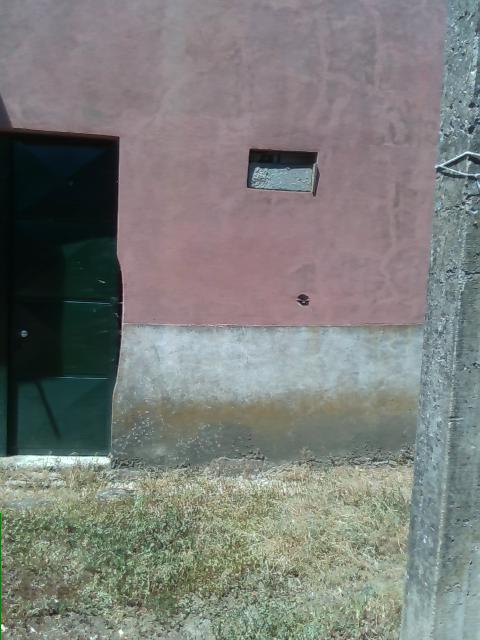door: (1, 130, 117, 463)
